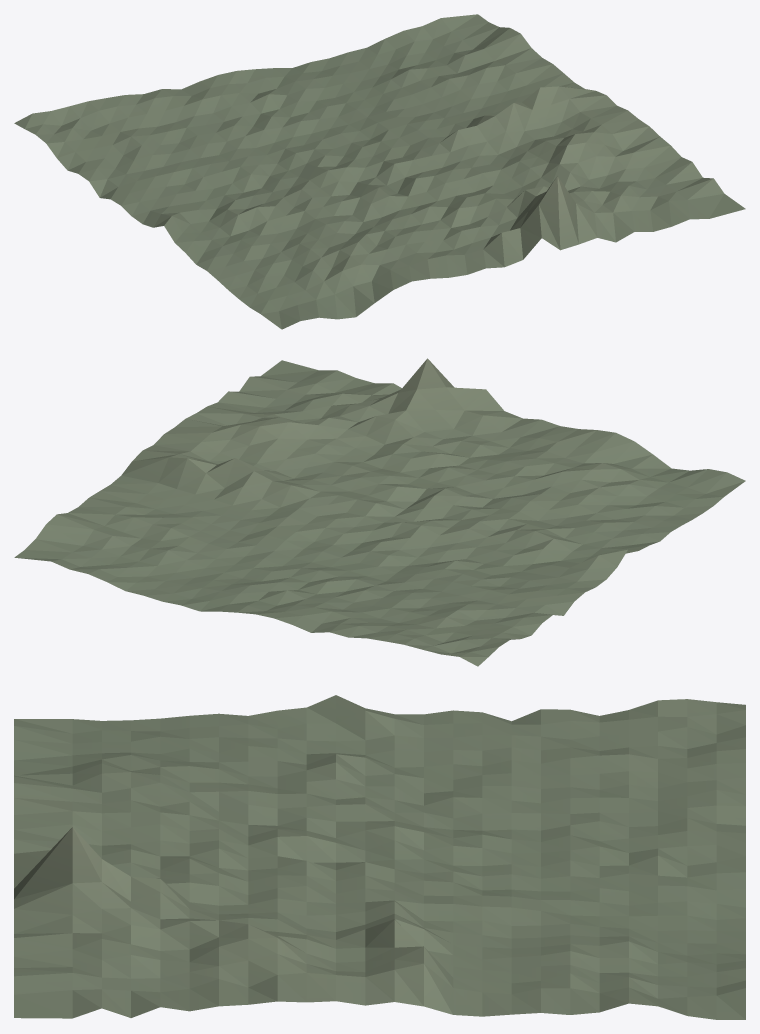
The model's file is tile_1_1.glb.
3 views of the same model, one above another, from view 1: azimuth 30°, elevation 25°; view 2: azimuth 150°, elevation 25°; view 3: azimuth 270°, elevation 25° (orthographic). The views are drawn at different scales.
Visible parts, largest first — view 1: geometry_0; view 2: geometry_0; view 3: geometry_0.
Part boxes in pixels (box(x1,y1,x2,y2)): geometry_0: box(14, 14, 745, 329); geometry_0: box(14, 358, 745, 666); geometry_0: box(14, 695, 745, 1019).
Size of the model in its own units: 123 by 18.07 by 123.
